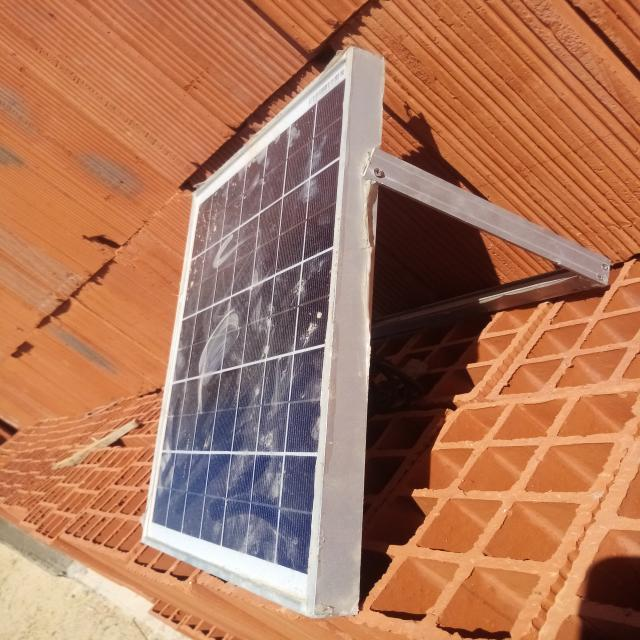faulty: (142, 55, 347, 615)
